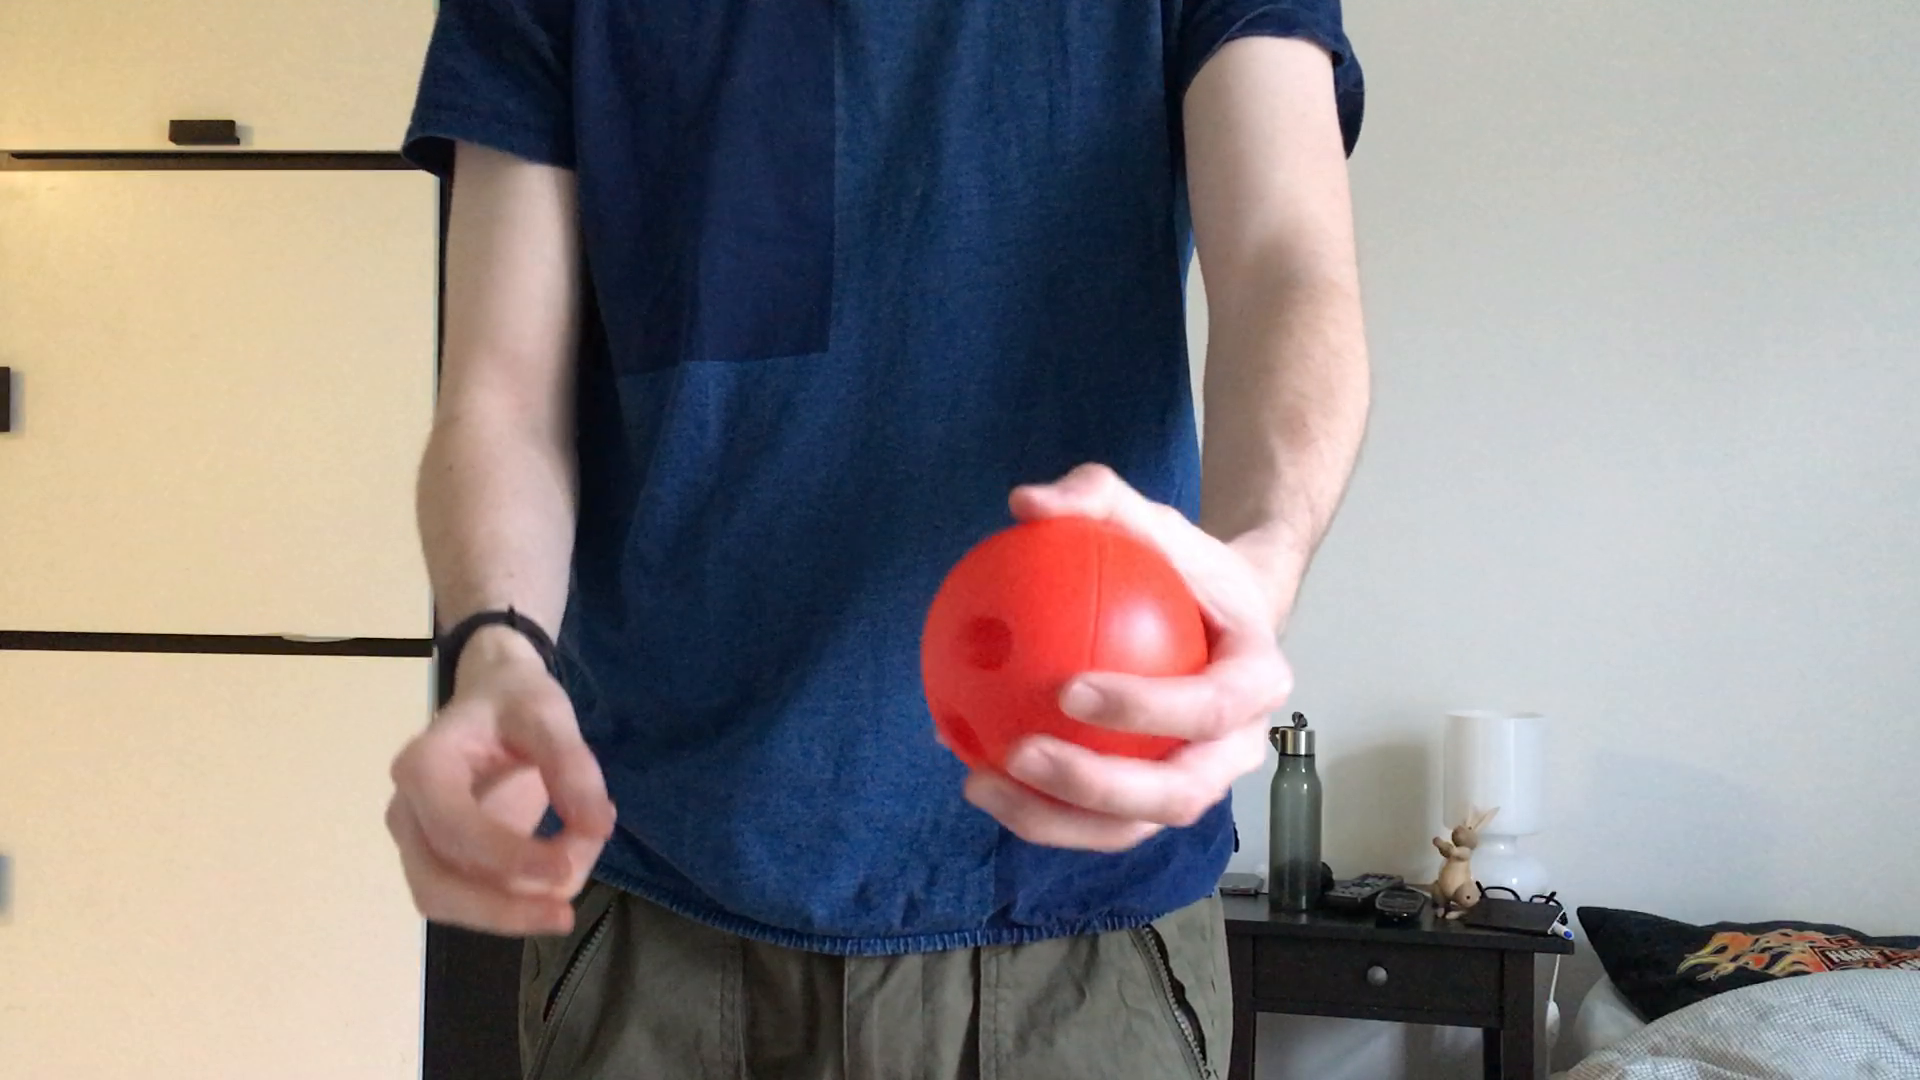Ball: (919, 518, 1218, 823)
